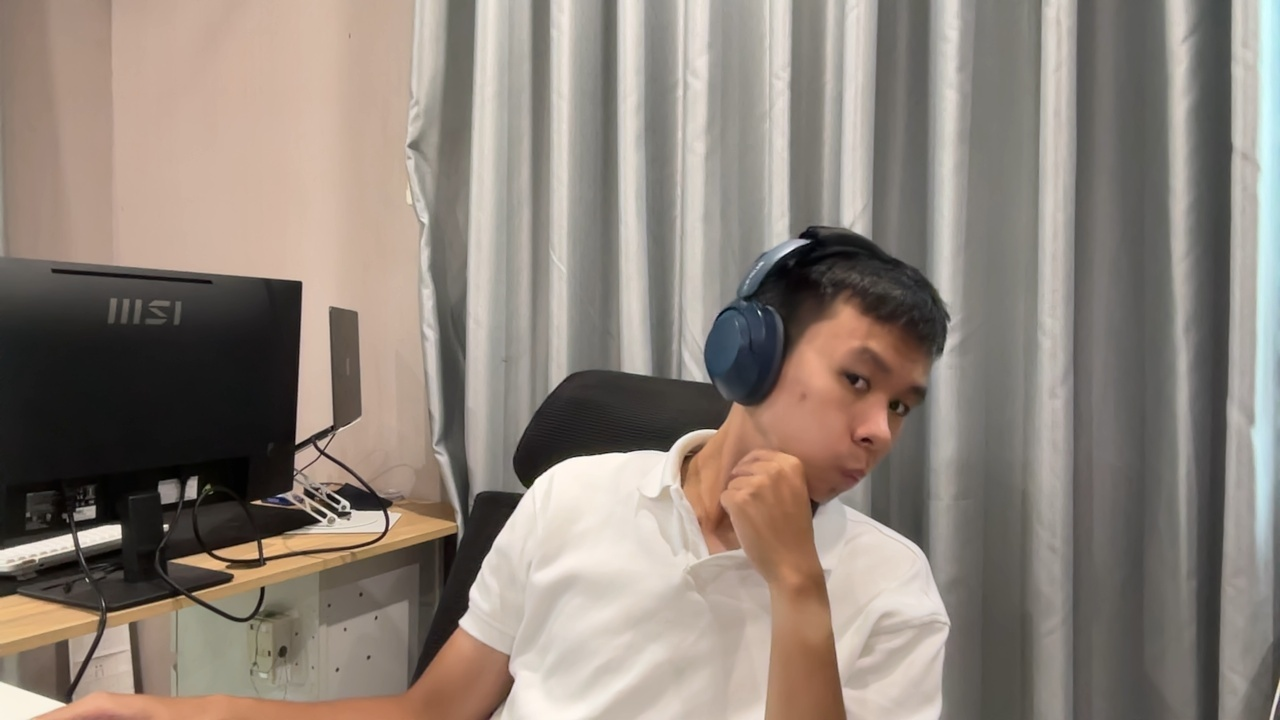over_ear: (703, 224, 922, 413), (703, 224, 914, 412), (703, 225, 843, 410)
